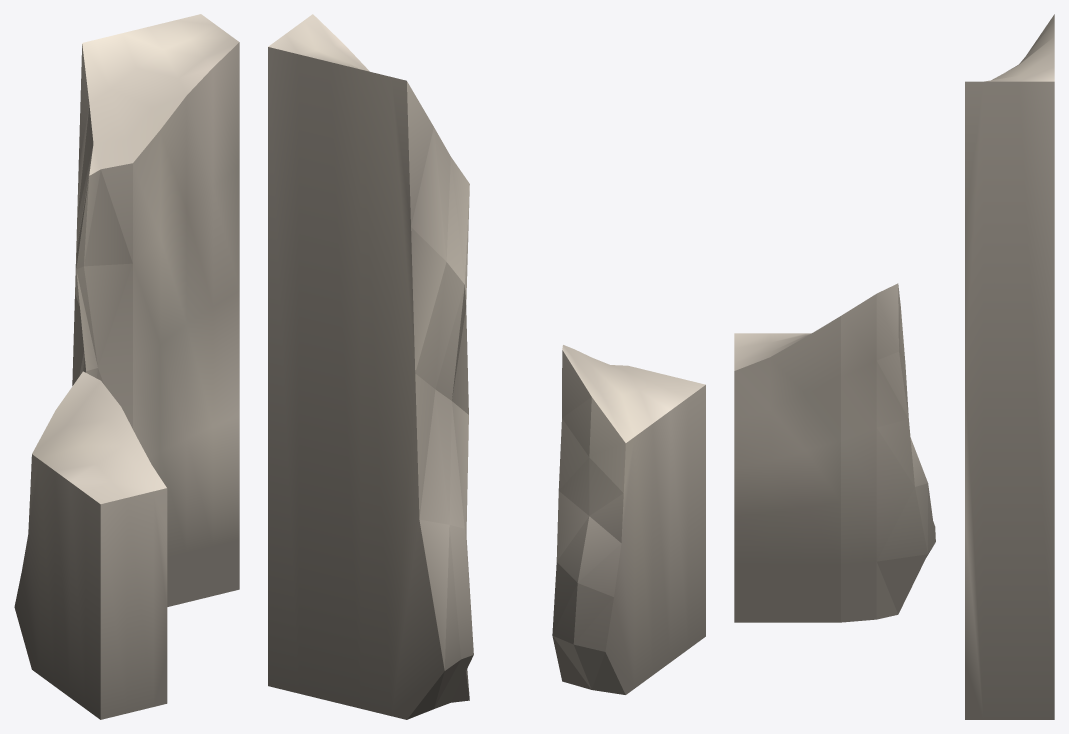
The model's file is SM_VKI_Rock_Cave_COFO_WallSE.fbx.
The picture shows the model from 3 angles, left to right: view 1: azimuth 30°, elevation 25°; view 2: azimuth 150°, elevation 25°; view 3: azimuth 270°, elevation 25°; orthographic projection. The views are drawn at different scales.
Parts seen in each view (by area): view 1: SM_VKI_Rock_Cave_COFO_WallSE.001; view 2: SM_VKI_Rock_Cave_COFO_WallSE.001; view 3: SM_VKI_Rock_Cave_COFO_WallSE.001.
Boxes of the visible parts, x1,y1,x2,y2 form: SM_VKI_Rock_Cave_COFO_WallSE.001: (14,14,239,719); SM_VKI_Rock_Cave_COFO_WallSE.001: (268,14,705,719); SM_VKI_Rock_Cave_COFO_WallSE.001: (734,14,1054,719).
Size of the model in its own units: 1.5 by 3.3 by 1.5.
